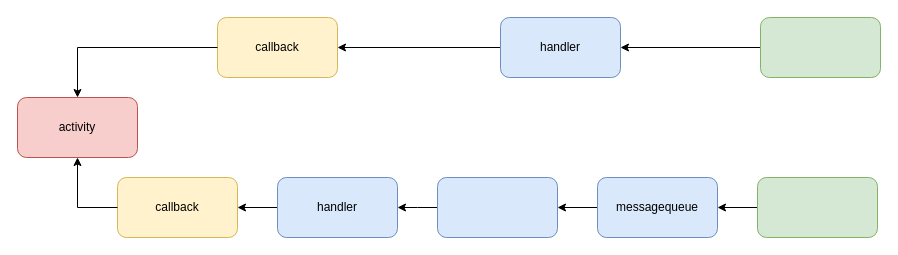
This 898x255 diagram has some shape labels left out. Here are the shapes that lost their labels. From the top down, the centre of each, then its label:
At [820,47]: "thread".
At [497,207]: "message".
At [817,207]: "mainlooper".
